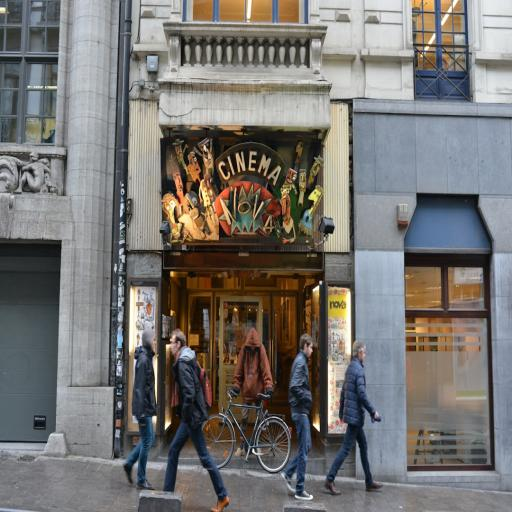face: (170, 335, 181, 358), (304, 344, 314, 358), (357, 349, 366, 363)
